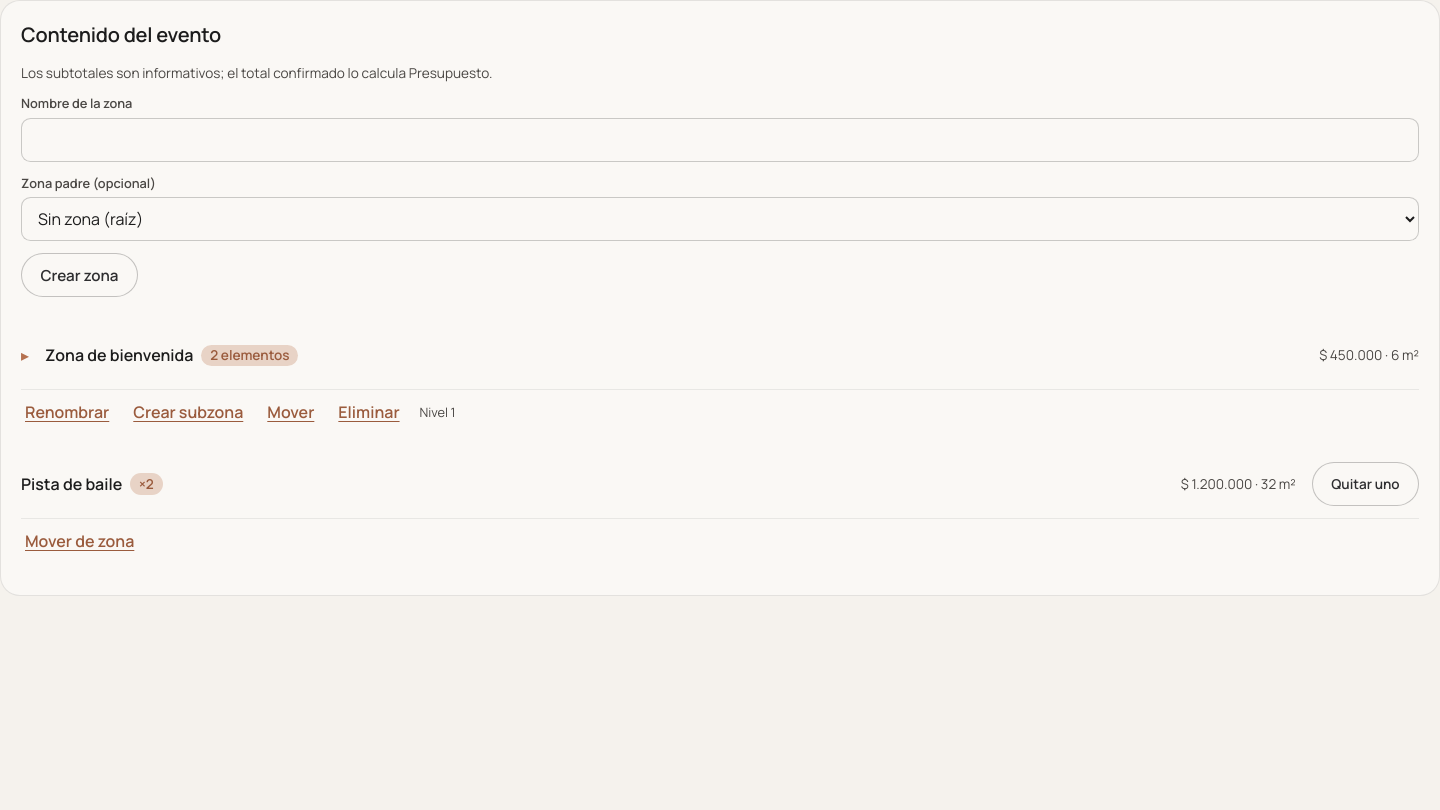
PackageContents (DECOR-22) › si quitar falla, muestra el error junto al elemento, no refresca y permite reintentar
Click the button with aria-label "Quitar una unidad de Pista de baile" at (1365, 484), box [1312,462,1419,506]
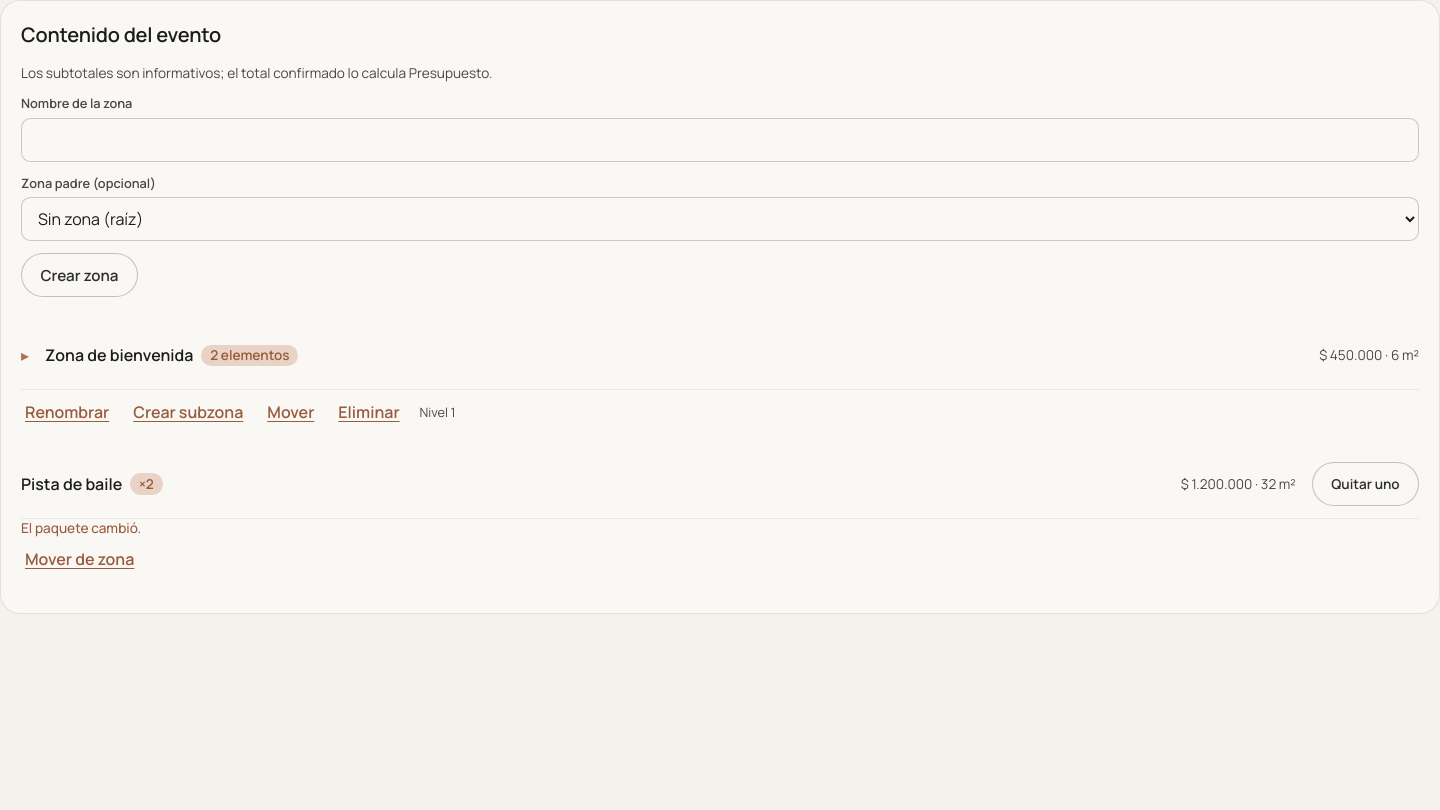
Expected: the text "×2" is shown, [130,473,163,495]
Result: the message reads "El paquete cambió." at [21,519,141,537]
Click the button with aria-label "Quitar una unidad de Pista de baile" at (1365, 484), box [1312,462,1419,506]
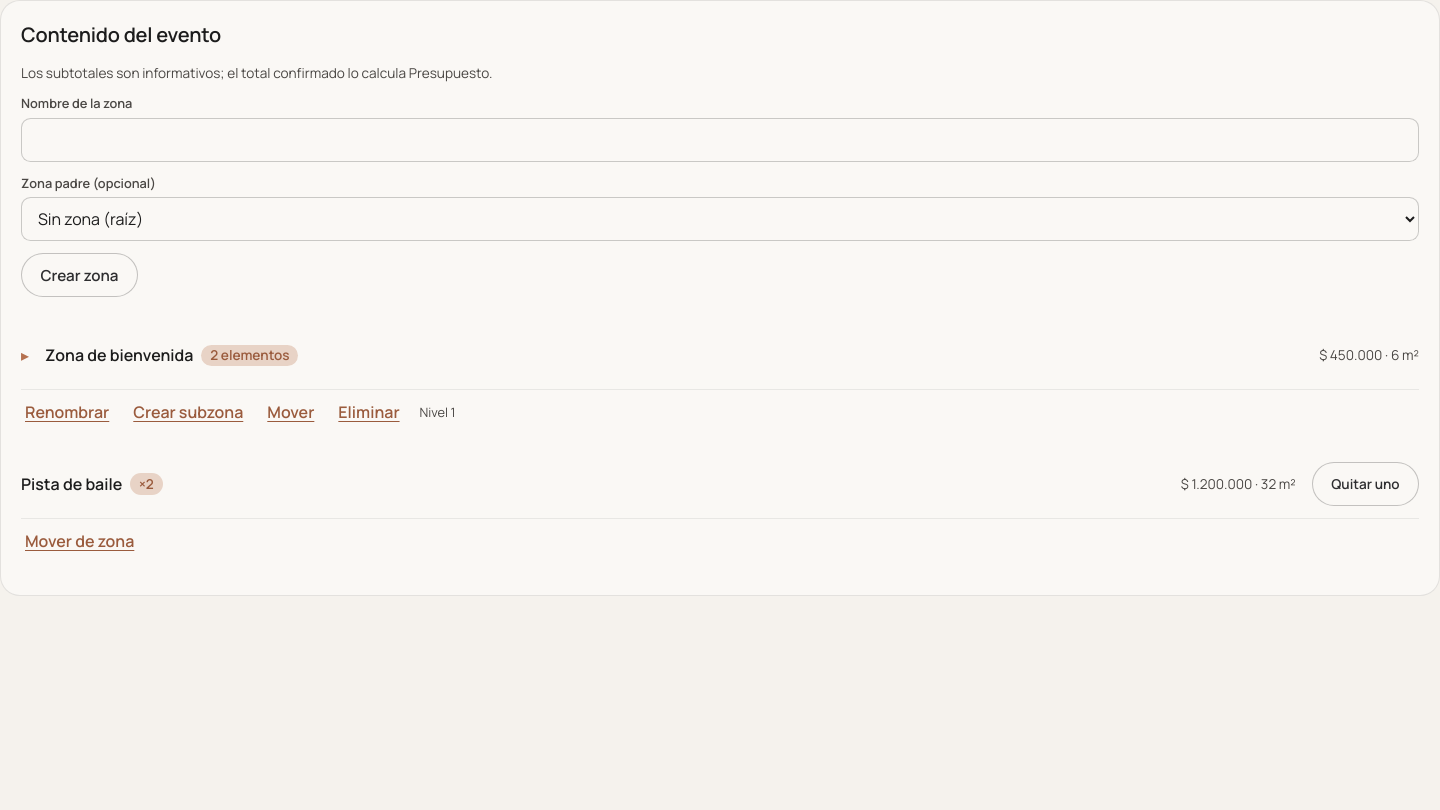
Result: the message "El paquete cambió." is gone
